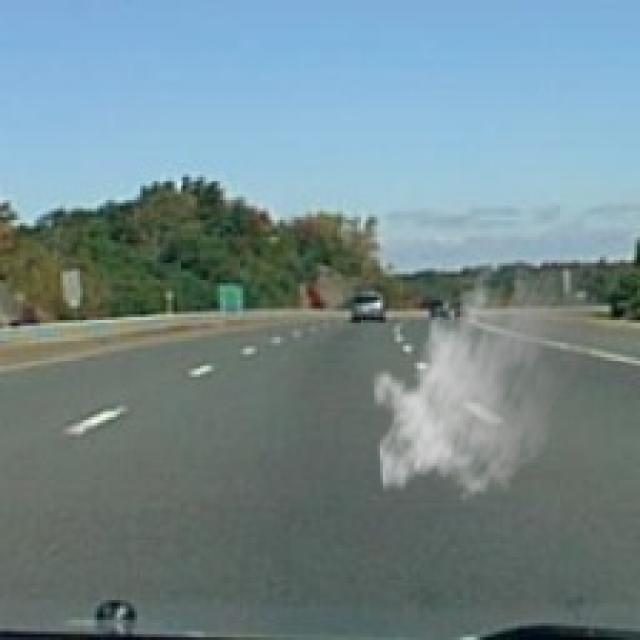Smoke: (371, 240, 600, 506)
